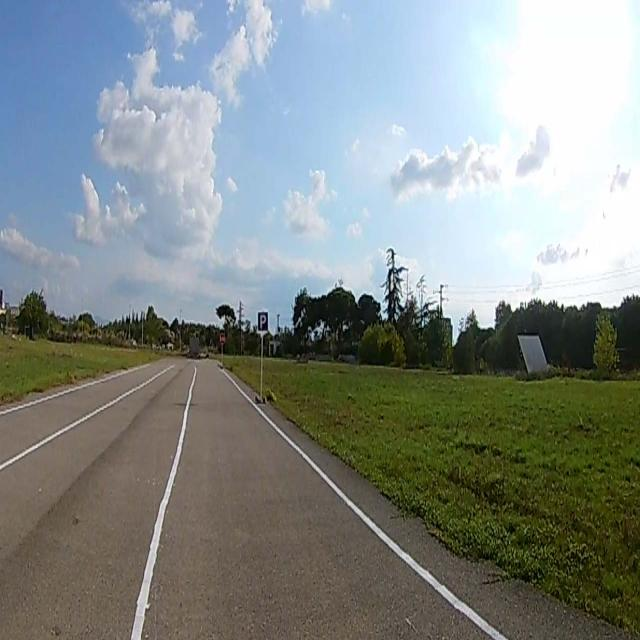park: (258, 312, 268, 332)
